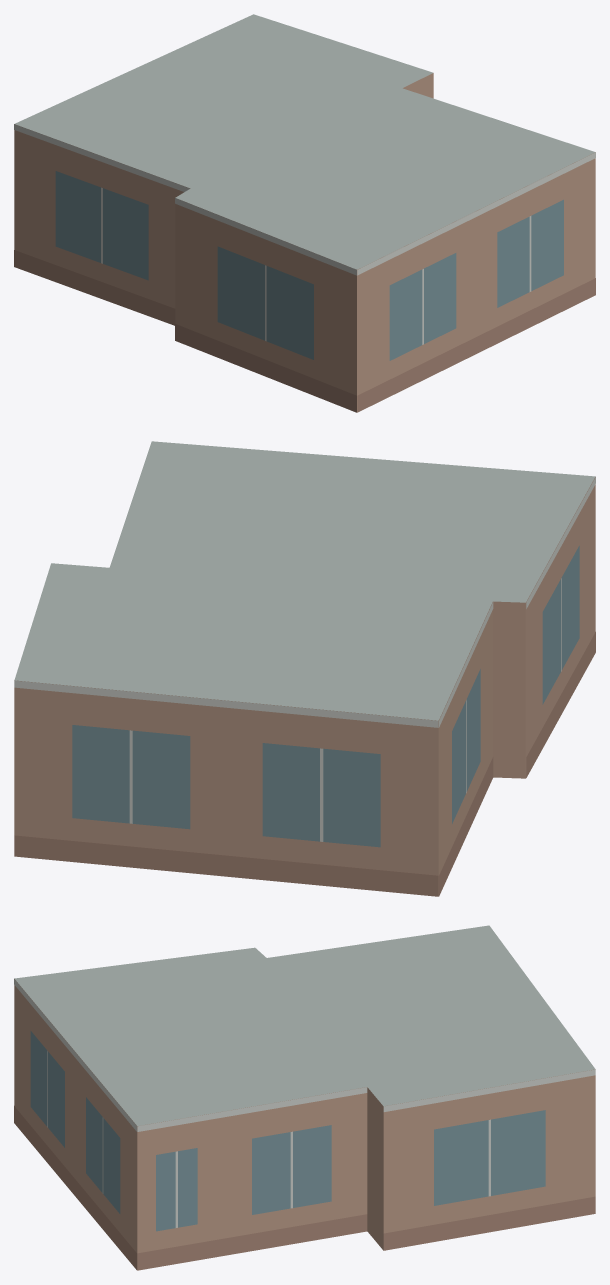
The model's file is survey-upis-32917855.glb.
The picture shows the model from 3 angles, top to bottom: view 1: azimuth 30°, elevation 25°; view 2: azimuth 150°, elevation 25°; view 3: azimuth 270°, elevation 25°; orthographic projection. The views are drawn at different scales.
Parts seen in each view (by area): view 1: survey-upis-32917855.tmp; view 2: survey-upis-32917855.tmp; view 3: survey-upis-32917855.tmp.
Part boxes in pixels (x1,y1,x2,y2): survey-upis-32917855.tmp: [14, 14, 595, 412]; survey-upis-32917855.tmp: [14, 441, 595, 896]; survey-upis-32917855.tmp: [14, 925, 595, 1270].
Bounding box in the file's own units: 9.11 × 3.05 × 11.14.
